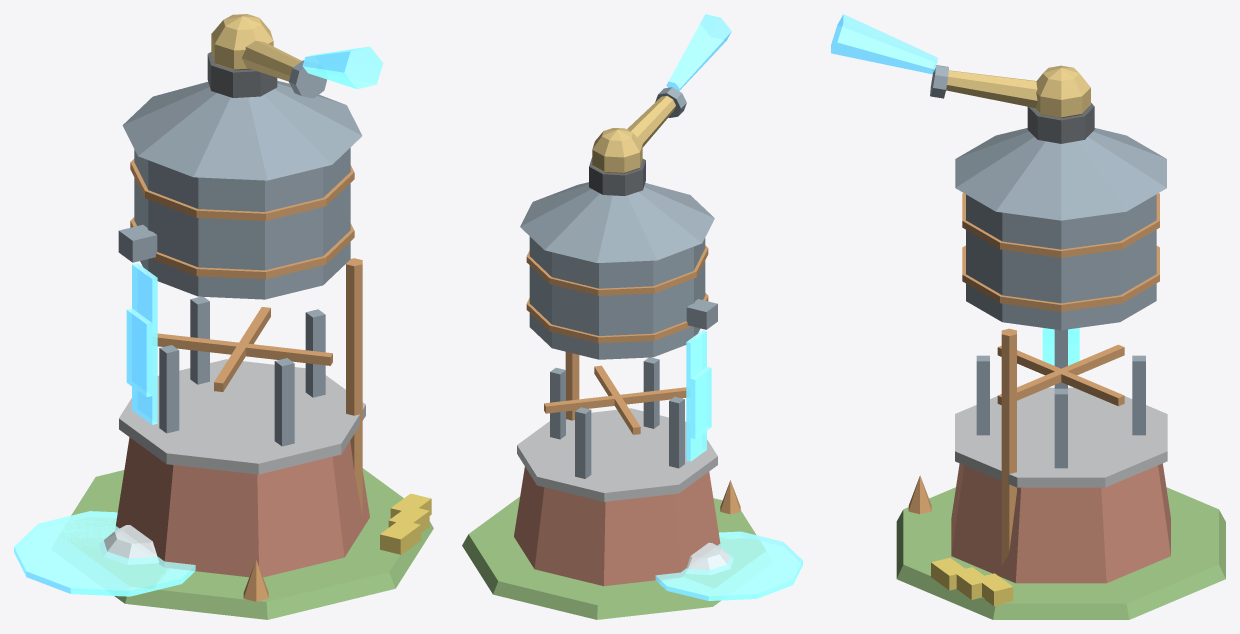
The model's file is P1_WaterTowerCannon.glb.
3 views of the same model, side by side, from view 1: azimuth 30°, elevation 25°; view 2: azimuth 150°, elevation 25°; view 3: azimuth 270°, elevation 25° (orthographic). The views are drawn at different scales.
Parts seen in each view (by area): view 1: P1_WaterTowerCannon; view 2: P1_WaterTowerCannon; view 3: P1_WaterTowerCannon.
Boxes of the visible parts, box(x1,y1,x2,y2) form: P1_WaterTowerCannon: box(14, 14, 433, 619); P1_WaterTowerCannon: box(462, 14, 802, 619); P1_WaterTowerCannon: box(831, 14, 1225, 619).
Size of the model in its own units: 5.32 by 7.91 by 5.32.
